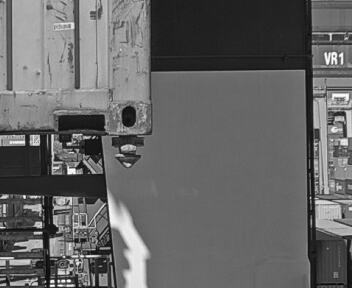twist_lock_2: (113, 128, 155, 173)
